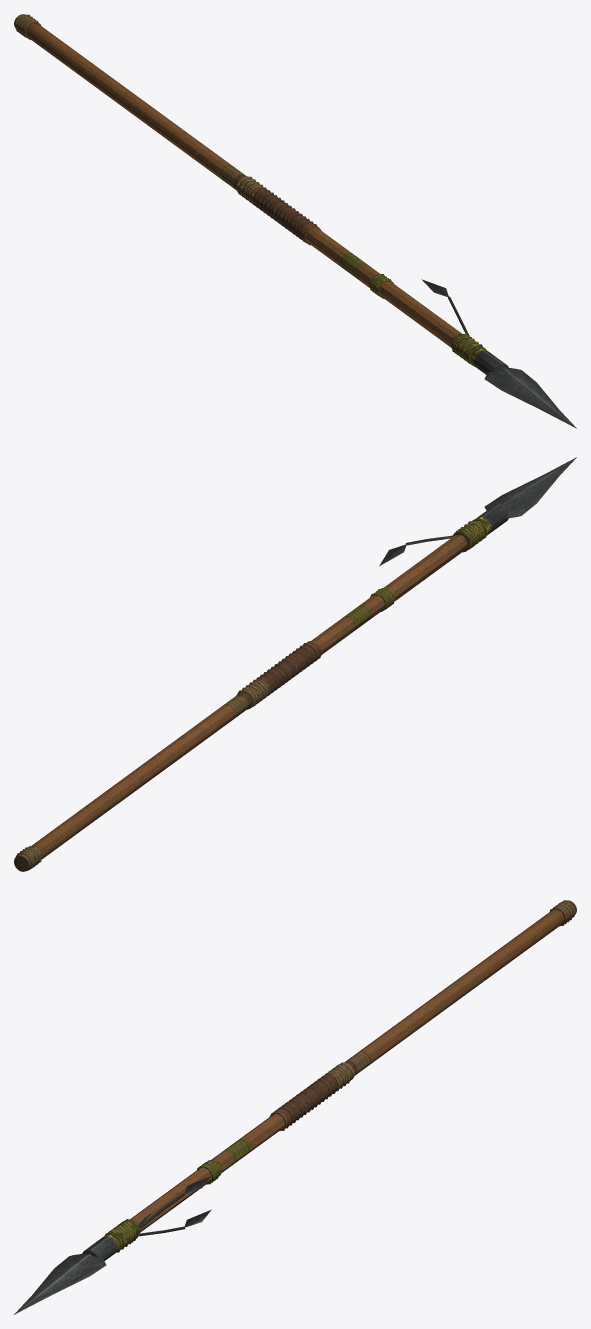
Rendered from mm6_natm_spear.glb.
3 views of the same model, one above another, from view 1: azimuth 30°, elevation 25°; view 2: azimuth 150°, elevation 25°; view 3: azimuth 330°, elevation 25° (orthographic).
Visible parts, largest first — view 1: Spear; view 2: Spear; view 3: Spear.
Boxes of the visible parts, left/top/right/bottom form: Spear: left=14, top=14, right=576, bottom=428; Spear: left=14, top=457, right=576, bottom=871; Spear: left=14, top=900, right=576, bottom=1314.
Bounding box in the file's own units: 0.076 × 0.058 × 1.55.
1 material, 1 textured.
